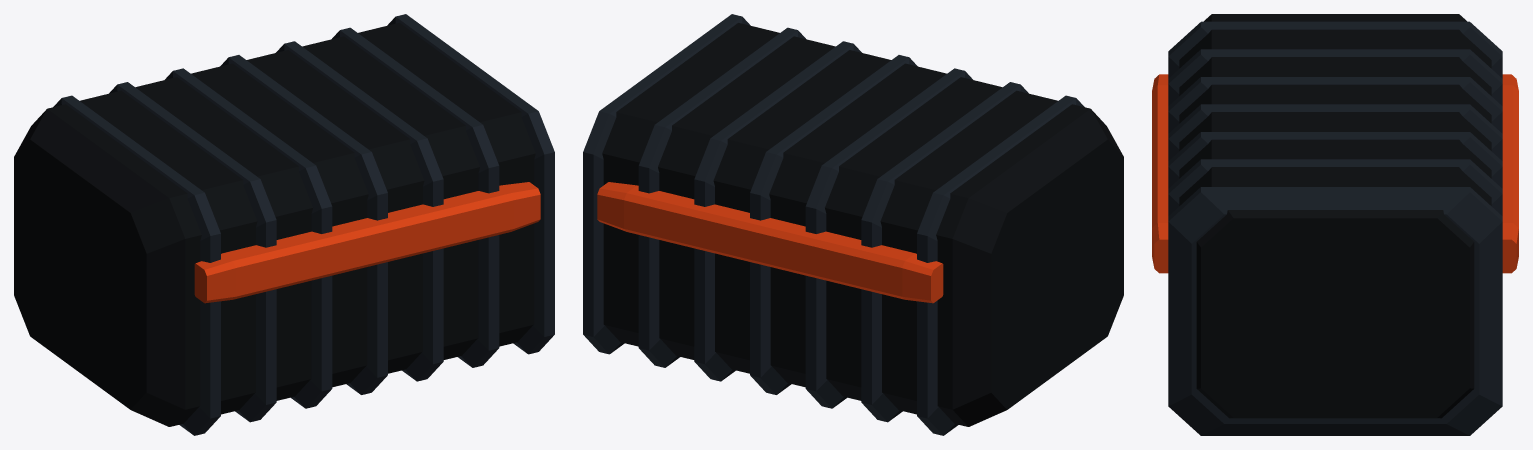
File: BreachPump.obj
3 renders of one model, left to right at view 1: azimuth 30°, elevation 25°; view 2: azimuth 150°, elevation 25°; view 3: azimuth 270°, elevation 25°, orthographic.
Parts seen in each view (by area): view 1: BreachPump; view 2: BreachPump; view 3: BreachPump.
Part boxes in pixels (bbox=[...]): BreachPump: bbox=[14, 14, 554, 435]; BreachPump: bbox=[583, 14, 1123, 435]; BreachPump: bbox=[1152, 14, 1518, 435].
Size of the model in its own units: 22 by 12.4 by 16.9.
